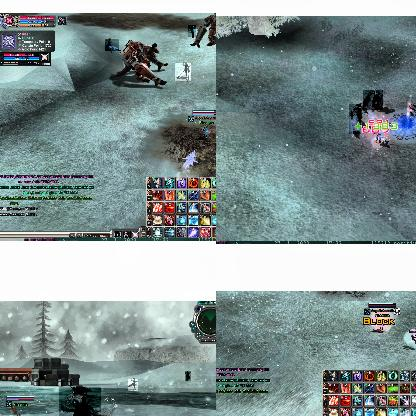caliana: (59, 387, 100, 416), (363, 90, 383, 110), (349, 104, 361, 134), (175, 63, 191, 81), (105, 39, 119, 51), (128, 379, 138, 391), (188, 25, 196, 37), (185, 371, 191, 381)
